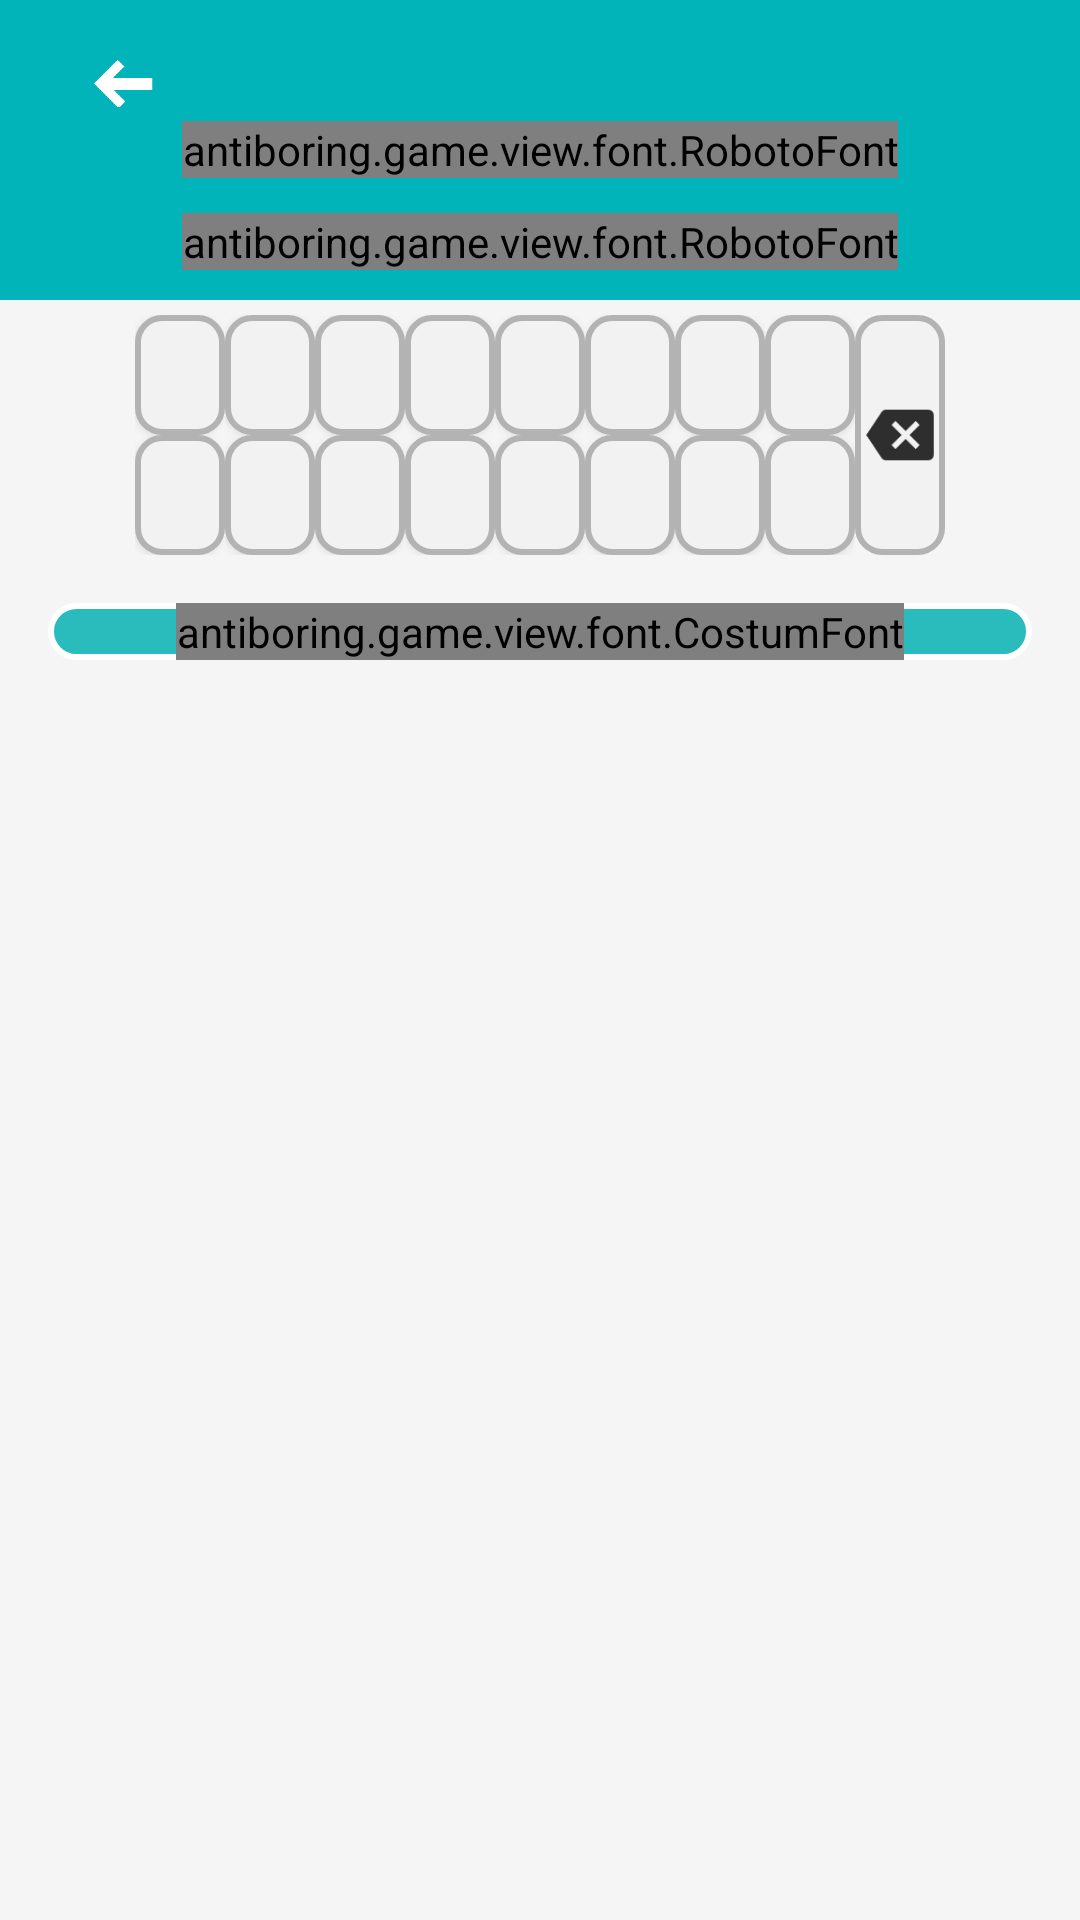

Where to tap for icons on this 1080px x 1920px app screen, as point (x, y):
backspace: point (900, 435)
panahback putih: point (123, 83)
